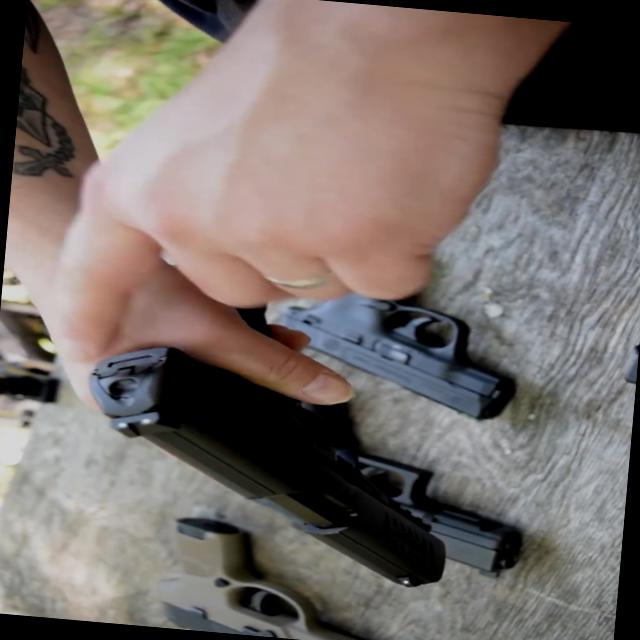handgun: (90, 330, 514, 608), (250, 242, 537, 460), (130, 495, 391, 639)
